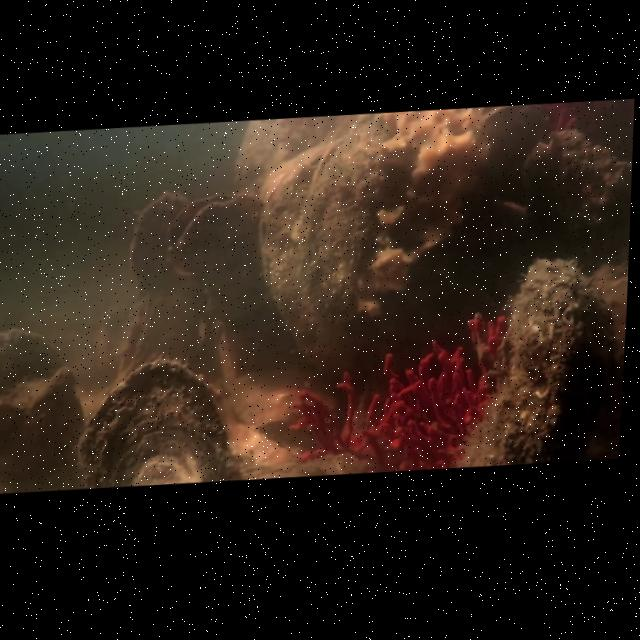Oyster-Indeterminate: (460, 252, 614, 463), (294, 119, 397, 363), (70, 349, 244, 484), (257, 141, 351, 389), (512, 127, 628, 262), (130, 191, 213, 349), (0, 365, 87, 493), (0, 325, 64, 409)
Oyster-Open: (156, 183, 269, 282)
